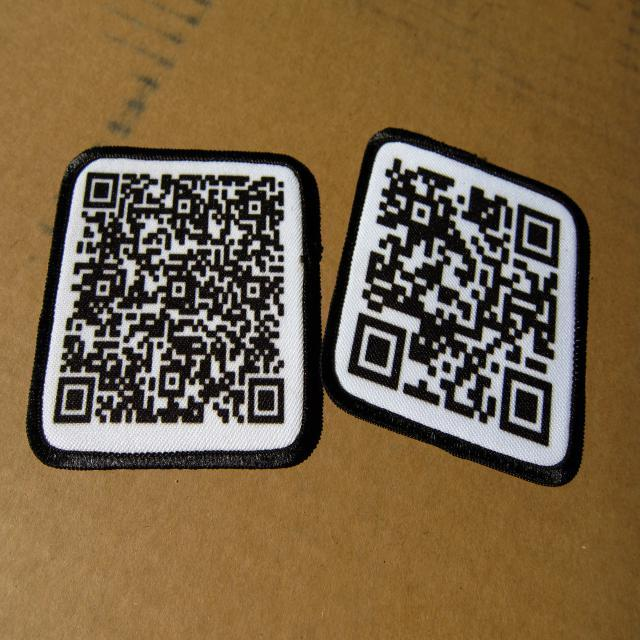qrcode: (348, 157, 561, 449), (54, 173, 285, 425)
